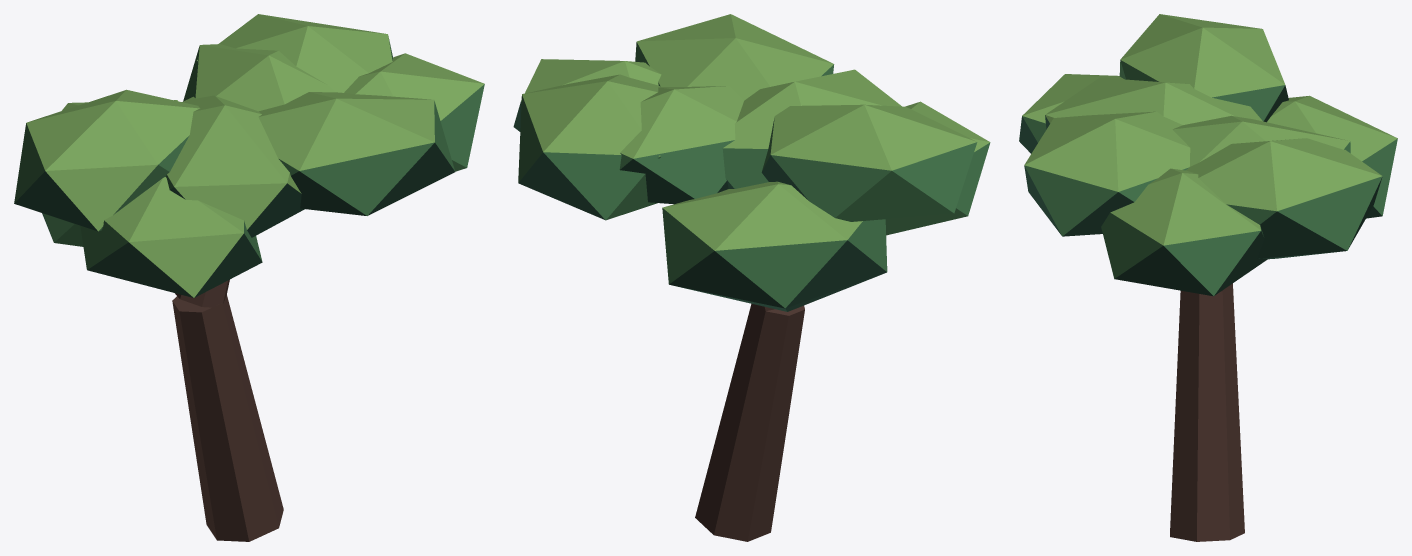
The model's file is tree_acacia_b.glb.
3 views of the same model, side by side, from view 1: azimuth 30°, elevation 25°; view 2: azimuth 150°, elevation 25°; view 3: azimuth 270°, elevation 25° (orthographic). The views are drawn at different scales.
Parts seen in each view (by area): view 1: tree_acacia_b; view 2: tree_acacia_b; view 3: tree_acacia_b.
Boxes of the visible parts, x1,y1,x2,y2 form: tree_acacia_b: (14,14,484,541); tree_acacia_b: (513,14,990,541); tree_acacia_b: (1019,14,1397,541).
Bounding box in the file's own units: 7.04 × 6.93 × 5.29.
